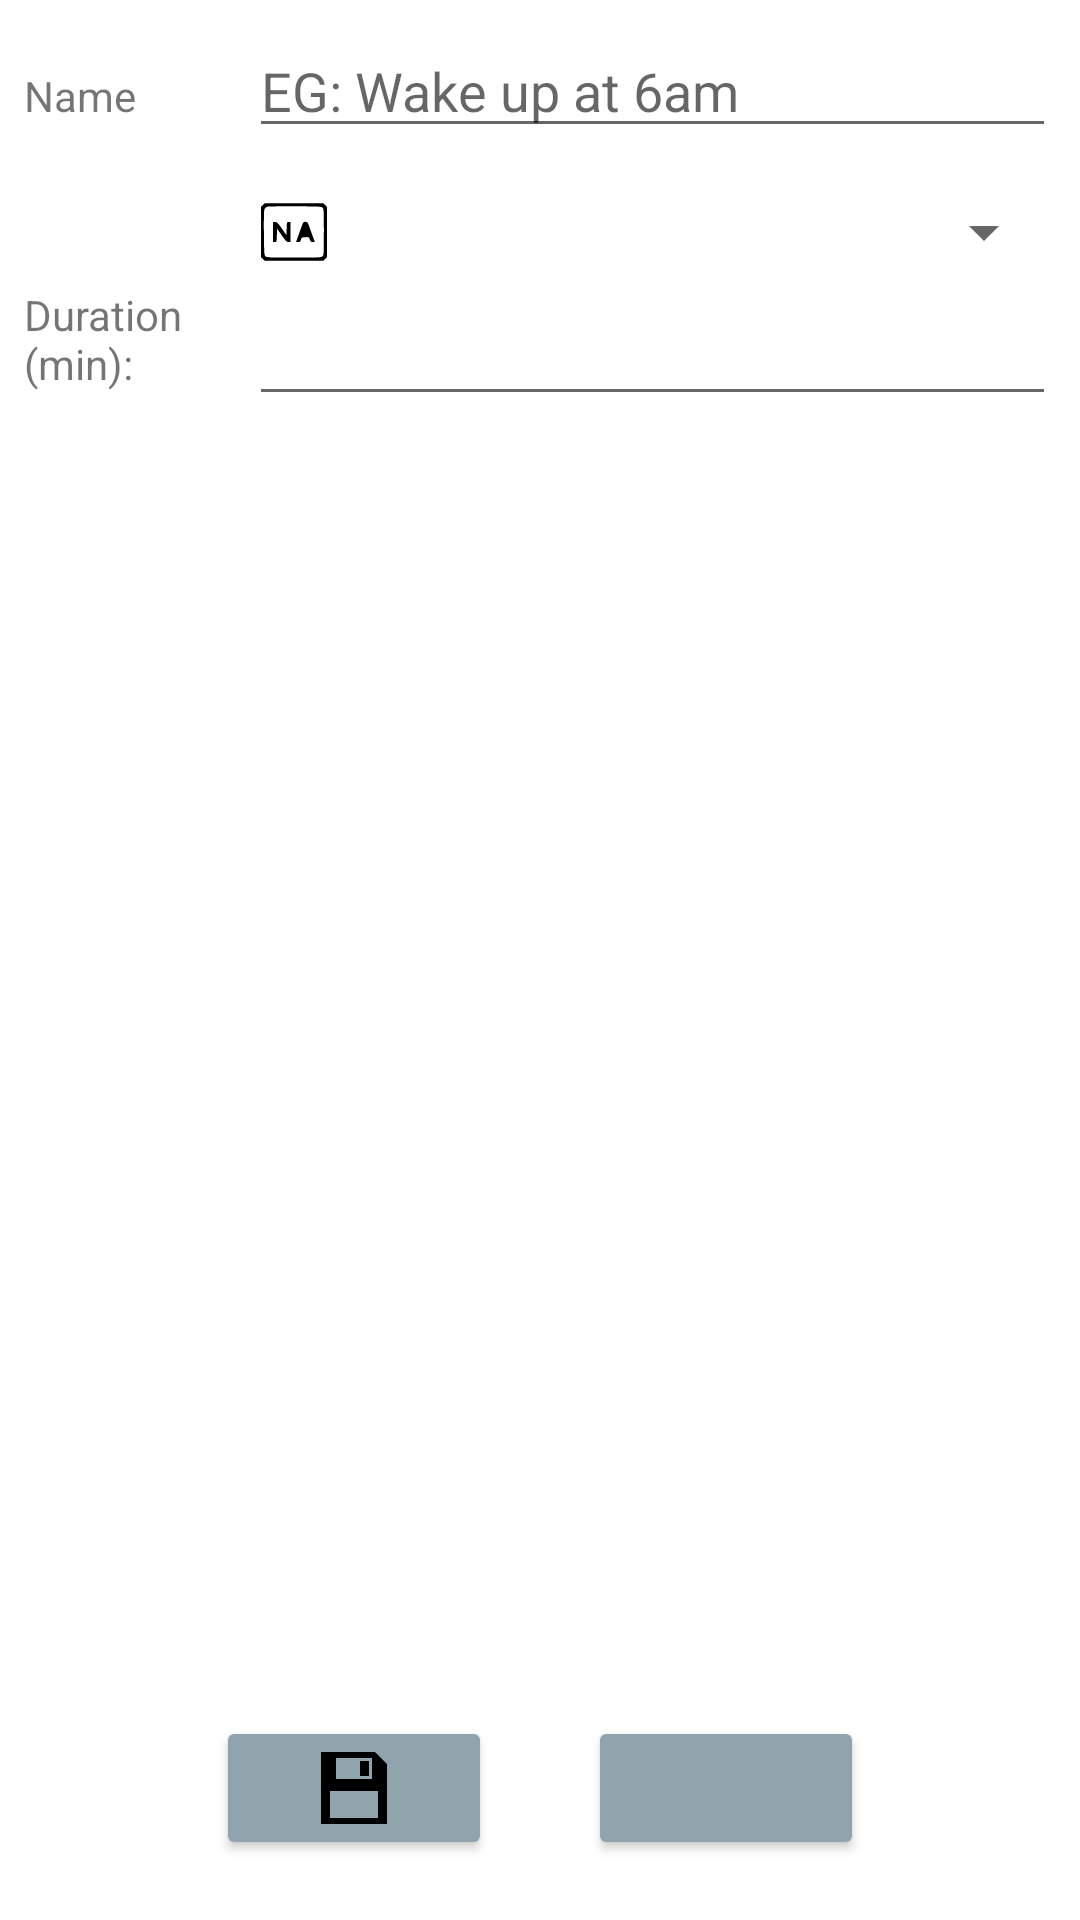

Named icons in this screenshot (1080 x 1920) and their centers, (x,y):
Save Button: (353,1791)
